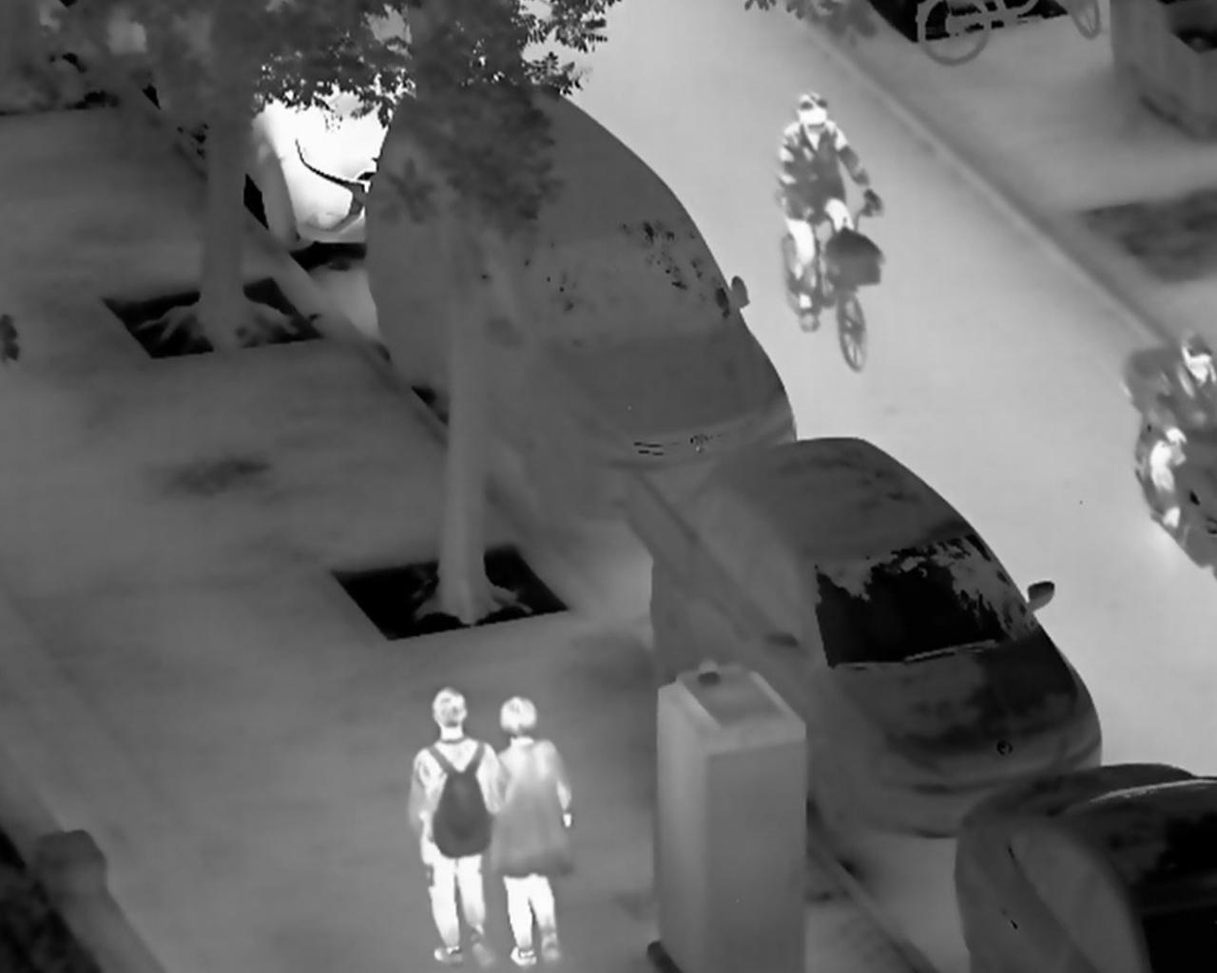person: (406, 688, 502, 973), (778, 86, 893, 317), (489, 694, 584, 970), (1143, 334, 1217, 531)
